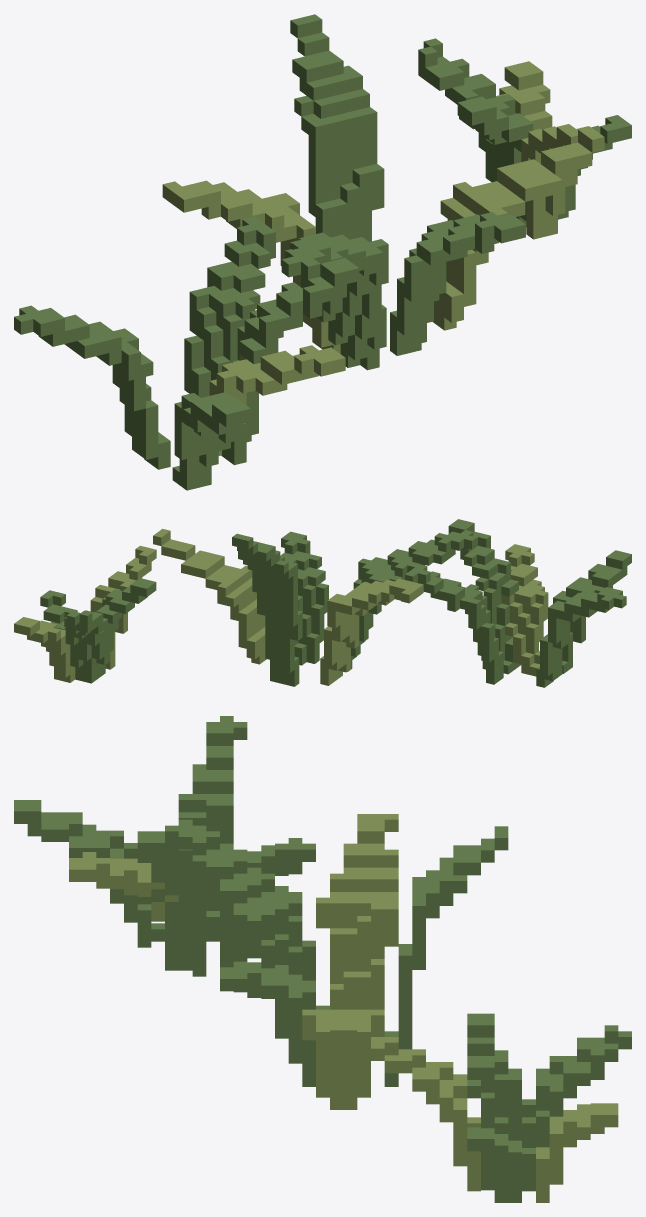
File: grass_tuft_v2_near.glb
3 renders of one model, top to bottom at view 1: azimuth 30°, elevation 25°; view 2: azimuth 150°, elevation 25°; view 3: azimuth 270°, elevation 25°, orthographic. The views are drawn at different scales.
Visible parts, largest first — view 1: grass_tuft_v2_near; view 2: grass_tuft_v2_near; view 3: grass_tuft_v2_near.
Boxes of the visible parts, box(x1,y1,x2,y2) form: grass_tuft_v2_near: box(14, 14, 631, 490); grass_tuft_v2_near: box(14, 519, 631, 687); grass_tuft_v2_near: box(14, 716, 631, 1202).
Bounding box in the file's own units: 1.88 × 0.625 × 1.41.
Materials: 1 (1 with a texture image).
